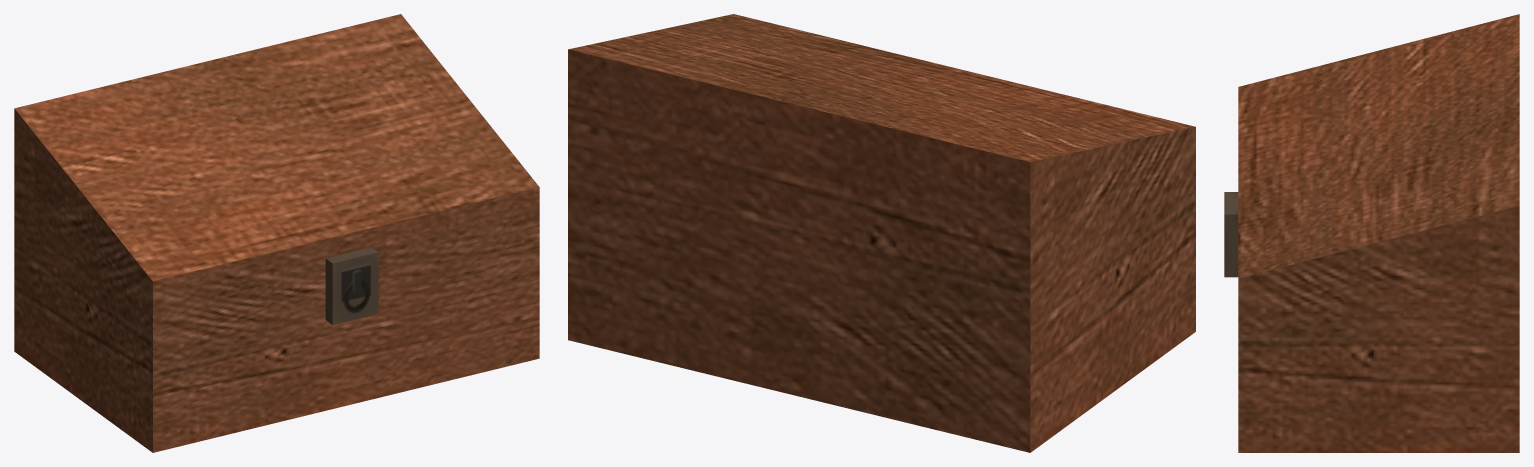
File: fanasty_mod_coal_box.fbx
3 views of the same model, side by side, from view 1: azimuth 30°, elevation 25°; view 2: azimuth 150°, elevation 25°; view 3: azimuth 270°, elevation 25° (orthographic). The views are drawn at different scales.
Visible parts, largest first — view 1: coal_box; view 2: coal_box; view 3: coal_box.
Part boxes in pixels (x1,y1,x2,y2): coal_box: (14, 14, 539, 452); coal_box: (568, 14, 1195, 452); coal_box: (1224, 14, 1519, 452).
Size of the model in its own units: 1.87 by 1.12 by 1.22.
